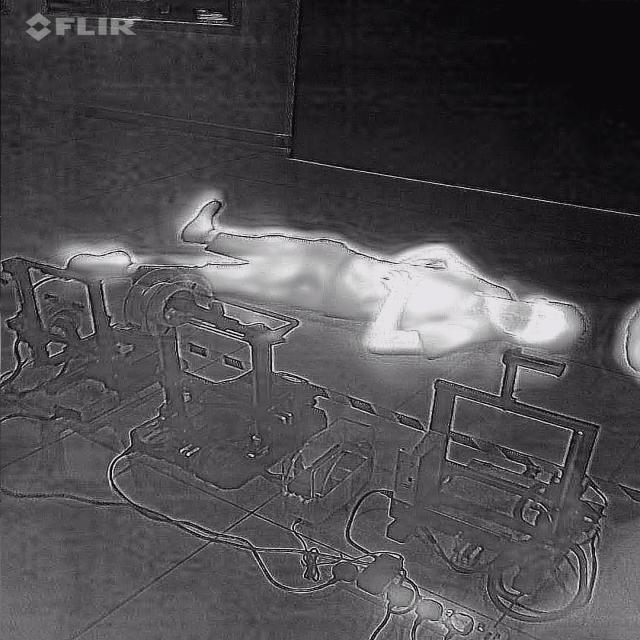Victim: (58, 187, 599, 375)
